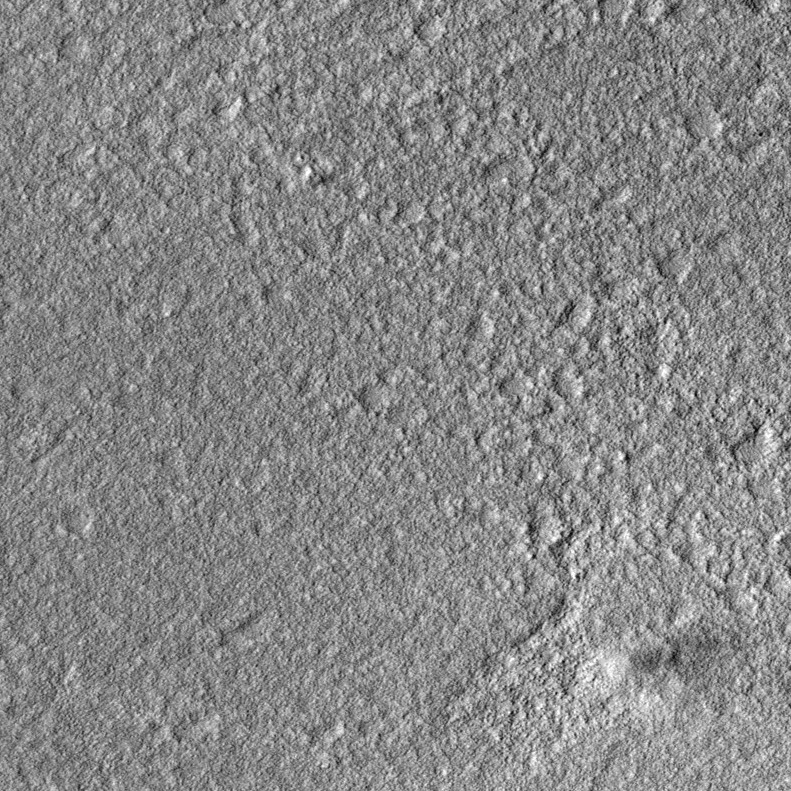dust_devil: (592, 618, 722, 690)
